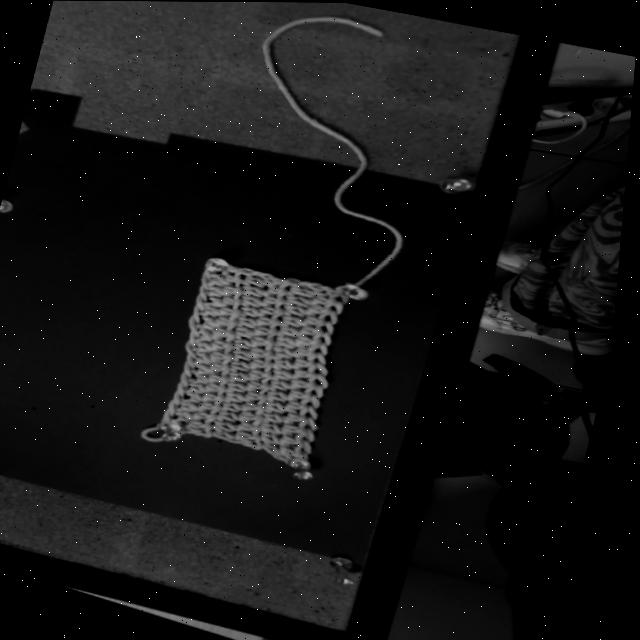ch: (189, 338, 201, 356), (194, 315, 202, 336), (197, 305, 205, 324), (204, 274, 213, 290), (185, 370, 193, 386), (202, 285, 211, 299), (192, 353, 200, 367), (189, 361, 196, 376), (201, 295, 208, 310), (175, 400, 181, 416), (206, 268, 214, 280), (183, 381, 189, 396), (181, 390, 187, 405), (194, 331, 200, 345), (169, 408, 175, 420)
hdc: (298, 368, 334, 389), (287, 422, 322, 442), (299, 335, 333, 355), (294, 378, 329, 397), (298, 357, 334, 375), (290, 411, 323, 430), (291, 400, 324, 419), (286, 433, 318, 452), (299, 346, 331, 365), (308, 314, 338, 334), (316, 295, 347, 314), (293, 389, 325, 407), (312, 304, 342, 323), (244, 409, 276, 426), (305, 326, 335, 344), (262, 305, 296, 320), (253, 368, 284, 384), (254, 346, 285, 361), (215, 339, 245, 354), (285, 444, 315, 459), (258, 325, 290, 339), (277, 346, 311, 359), (289, 294, 323, 307), (215, 349, 244, 364), (215, 327, 246, 341), (252, 379, 283, 393), (293, 286, 332, 297), (226, 284, 254, 299), (220, 315, 248, 330), (255, 336, 285, 350), (270, 401, 304, 413), (287, 304, 321, 316), (225, 295, 254, 309), (244, 294, 275, 307), (255, 359, 286, 372), (247, 401, 278, 414), (269, 411, 300, 424), (280, 335, 311, 348), (220, 419, 253, 431), (260, 316, 293, 328), (246, 420, 274, 434), (267, 432, 295, 446), (197, 410, 229, 422), (247, 391, 279, 403), (328, 289, 352, 305), (203, 302, 230, 316), (220, 429, 247, 443), (195, 419, 226, 431), (234, 360, 265, 372), (272, 390, 303, 402), (202, 316, 230, 329), (204, 401, 232, 414), (245, 284, 273, 297), (266, 422, 294, 435), (207, 392, 237, 404), (275, 379, 305, 391), (223, 307, 250, 320), (210, 383, 241, 394), (241, 430, 267, 443), (285, 314, 313, 326), (224, 410, 254, 421), (236, 349, 266, 360), (267, 296, 297, 307), (278, 358, 308, 369), (199, 329, 226, 341), (248, 275, 275, 287), (228, 275, 255, 287), (214, 363, 243, 374), (232, 381, 261, 392), (233, 370, 262, 381), (277, 368, 306, 379), (199, 351, 223, 364), (228, 400, 254, 412), (239, 325, 263, 338), (243, 316, 269, 328), (230, 391, 258, 402), (271, 286, 299, 297), (283, 325, 311, 336), (183, 401, 213, 411), (210, 285, 235, 297), (267, 442, 290, 455), (198, 341, 225, 352), (213, 374, 240, 385), (275, 277, 304, 287), (211, 273, 235, 285), (238, 337, 262, 349), (245, 306, 271, 317), (180, 411, 208, 421), (188, 392, 215, 402), (197, 364, 224, 374), (208, 295, 232, 306), (230, 266, 256, 276), (192, 383, 217, 393), (194, 374, 220, 383)
